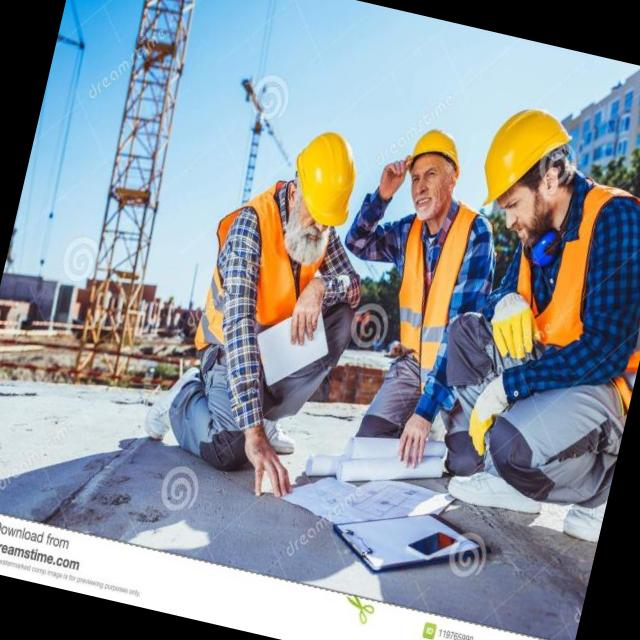Gloves: (480, 292, 548, 370), (465, 362, 516, 458)
Helmet: (278, 112, 371, 240), (478, 97, 574, 215), (388, 106, 477, 180)
Vest: (177, 180, 338, 388), (372, 212, 476, 376)
